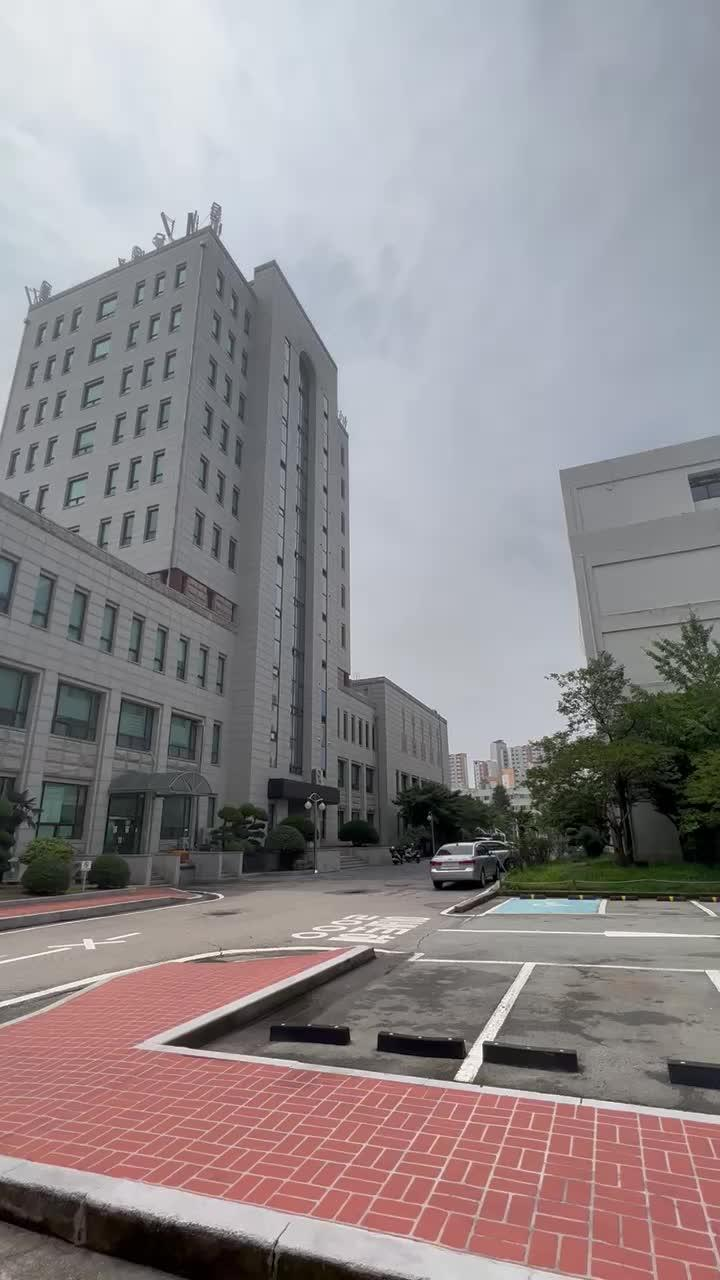building: (8, 234, 378, 764)
